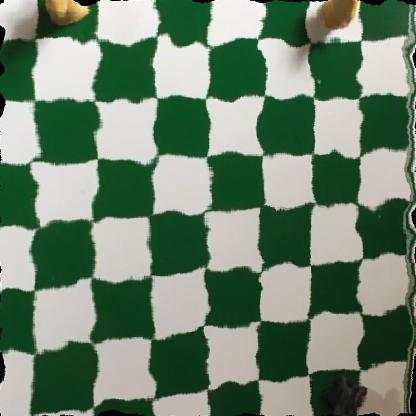black-knight: (322, 368, 367, 416), (41, 414, 89, 416)
white-knight: (315, 0, 365, 34), (47, 0, 91, 32)
